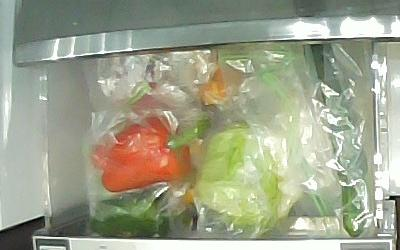cucumber_vinyl: (311, 43, 368, 238)
lettuce_vinyl: (195, 125, 294, 228)
paprika_vinyl: (89, 113, 210, 194), (92, 184, 188, 235)
